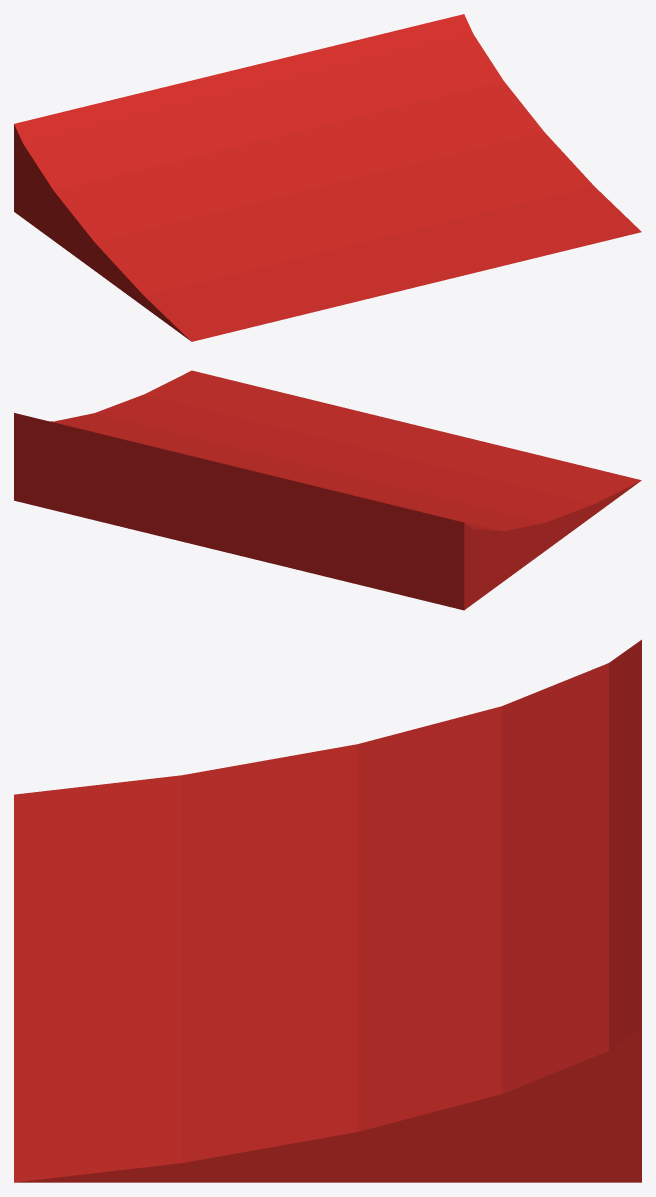
The model's file is Ramp.fbx.
3 views of the same model, one above another, from view 1: azimuth 30°, elevation 25°; view 2: azimuth 150°, elevation 25°; view 3: azimuth 270°, elevation 25° (orthographic). The views are drawn at different scales.
Visible parts, largest first — view 1: Cube; view 2: Cube; view 3: Cube.
Boxes of the visible parts, x1=… form: Cube: x1=14, y1=14, x2=641, y2=341; Cube: x1=14, y1=370, x2=641, y2=610; Cube: x1=14, y1=639, x2=641, y2=1182.
Bounding box in the file's own units: 200 × 37.31 × 137.
